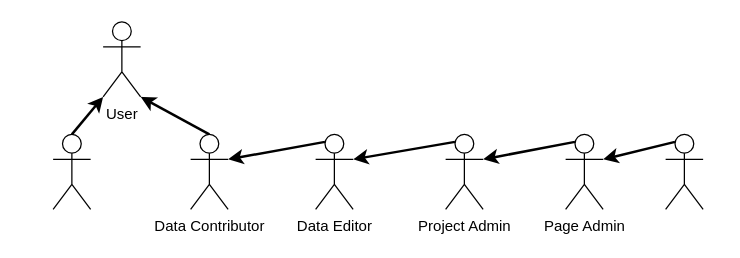
This 740x258 diagram has some shape labels left out. Each missing label, with the centre of its shape:
No Identificado: (x=71, y=171)
Superuser: (x=683, y=171)
